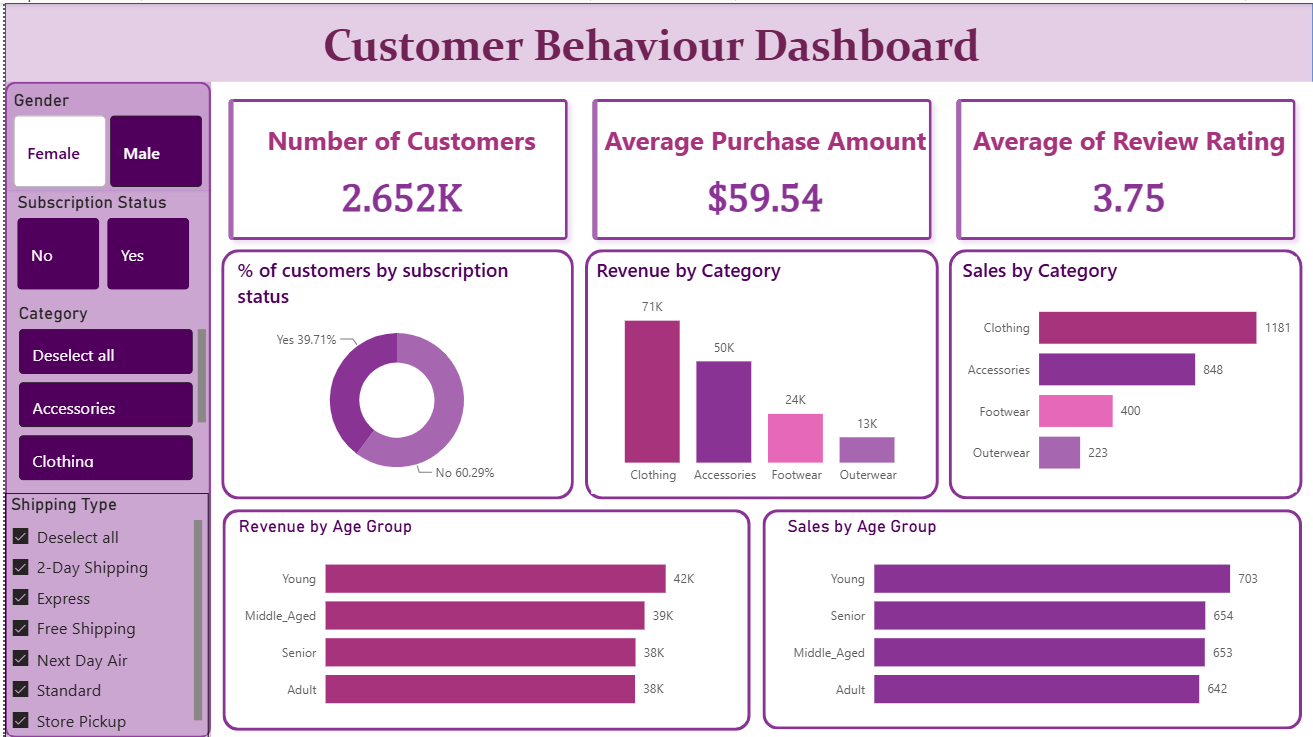

This screenshot's page, from the dashboard's own definition file:
{"tool":"powerbi","page":{"name":"Page 1","canvas":[1280,720],"ordinal":0},"visuals":[{"type":"shape","box":[0,0,1280,184.3],"z":0},{"type":"shape","box":[211.2,241.3,345.1,244.9],"z":0,"group":"g1"},{"type":"cardVisual","fields":{"Data":["public customer.Number of Customers","public customer.Average Purchase Amount","public customer.Average of Review Rating"]},"box":[201.8,77.3,1078.2,172.7],"z":1000},{"type":"donutChart","title":" % of customers by subscription status","fields":{"Category":["public customer.subscription_status"],"Y":["CountNonNull(public customer.customer_id)"]},"box":[221.7,248.2,322,231.4],"z":1000,"group":"g1"},{"type":"textbox","box":[292.2,10,680,72.2],"z":2000},{"type":"shape","box":[566.6,241.3,346,244.9],"z":2000,"group":"g1"},{"type":"shape","box":[0,77.1,201.4,642.9],"z":3000},{"type":"shape","box":[922.7,241.2,346,244.6],"z":3000,"group":"g1"},{"type":"advancedSlicerVisual","title":"Gender","fields":{"Values":["public customer.gender"]},"box":[4,84,194.7,101.3],"z":4000},{"type":"columnChart","title":"Revenue by Category","fields":{"Category":["public customer.category"],"Y":["Sum(public customer.purchase_amount)"]},"box":[572.6,248.4,332.2,231.6],"z":4000,"group":"g1"},{"type":"advancedSlicerVisual","title":"Subscription Status","fields":{"Values":["public customer.subscription_status"]},"box":[7.8,184.4,178.9,101.1],"z":5000},{"type":"barChart","title":"Sales by Category","fields":{"Category":["public customer.category"],"Y":["public customer.Number of Customers"]},"box":[931.5,249,331.7,230],"z":5000,"group":"g1"},{"type":"advancedSlicerVisual","title":"Category","fields":{"Values":["public customer.category"]},"box":[8,293,193,179],"z":6000},{"type":"listSlicer","title":"Shipping Type","fields":{"Values":["public customer.shipping_type"]},"box":[0,479,199,241],"z":7000},{"type":"shape","box":[212.2,495.6,516.7,216.7],"z":8000},{"type":"group","id":"g1","title":"Group 1","box":[211.2,241.2,1057.5,245],"z":9000},{"type":"barChart","title":"Revenue by Age Group","fields":{"Category":["public customer.age_group"],"Y":["Sum(public customer.purchase_amount)"]},"box":[223.3,501.1,491.1,204.4],"z":10000},{"type":"shape","box":[741.1,495.6,527.8,215.6],"z":10001},{"type":"barChart","title":"Sales by Age Group","fields":{"Category":["public customer.age_group"],"Y":["CountNonNull(public customer.customer_id)"]},"box":[760,501.1,491.1,204.4],"z":10002}]}

Visuals, with their boxes in screenshot pixels (x1, y1, x2, y2), scaled from the page's 1280x720 canvas onto the 1313x737 screenshot:
shape: x1=0 y1=0 x2=1312 y2=189
shape: x1=217 y1=247 x2=571 y2=498
cardVisual - public customer.Number of Customers x public customer.Average Purchase Amount: x1=207 y1=79 x2=1312 y2=256
" % of customers by subscription status" donutChart: x1=227 y1=254 x2=558 y2=491
textbox: x1=300 y1=10 x2=997 y2=84
shape: x1=581 y1=247 x2=936 y2=498
shape: x1=0 y1=79 x2=207 y2=736
shape: x1=946 y1=247 x2=1301 y2=497
"Gender" advancedSlicerVisual: x1=4 y1=86 x2=204 y2=190
"Revenue by Category" columnChart: x1=587 y1=254 x2=928 y2=491
"Subscription Status" advancedSlicerVisual: x1=8 y1=189 x2=192 y2=292
"Sales by Category" barChart: x1=956 y1=255 x2=1296 y2=490
"Category" advancedSlicerVisual: x1=8 y1=300 x2=206 y2=483
"Shipping Type" listSlicer: x1=0 y1=490 x2=204 y2=736
shape: x1=218 y1=507 x2=748 y2=729
"Group 1" group: x1=217 y1=247 x2=1301 y2=498
"Revenue by Age Group" barChart: x1=229 y1=513 x2=733 y2=722
shape: x1=760 y1=507 x2=1302 y2=728
"Sales by Age Group" barChart: x1=780 y1=513 x2=1283 y2=722
